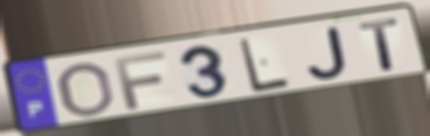3: (175, 43, 234, 101)
F: (111, 49, 169, 112)
J: (304, 24, 351, 82)
L: (237, 36, 293, 95)
O: (56, 61, 118, 119)
T: (356, 16, 403, 74)
